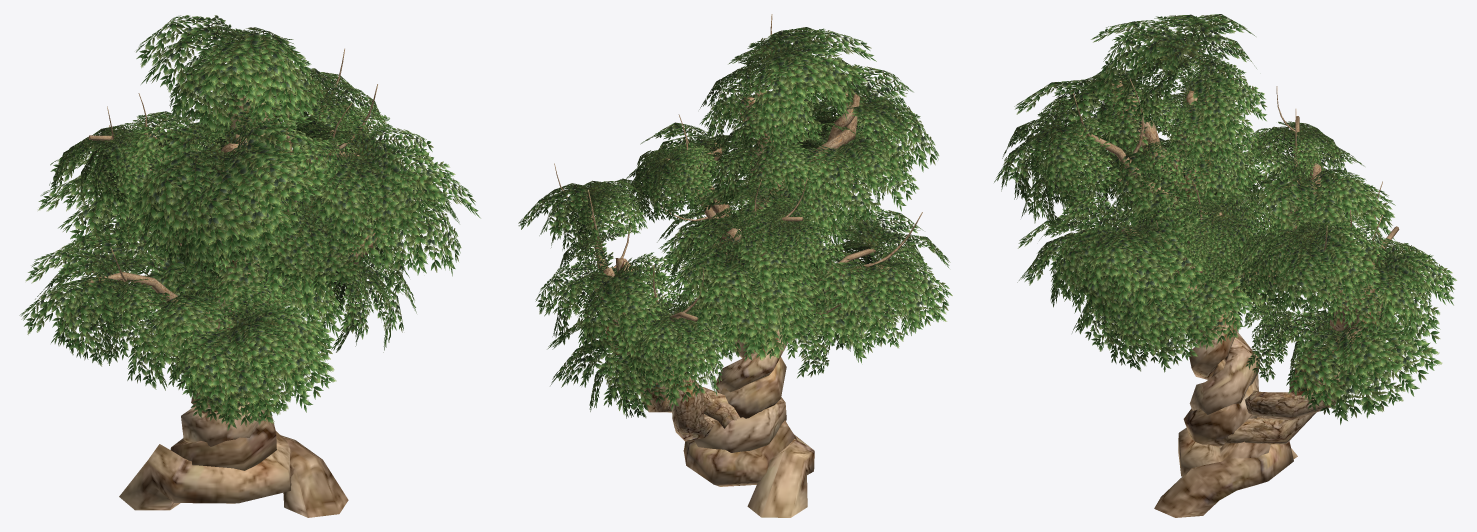
The model's file is Tree.obj.
3 views of the same model, side by side, from view 1: azimuth 30°, elevation 25°; view 2: azimuth 150°, elevation 25°; view 3: azimuth 270°, elevation 25° (orthographic). The views are drawn at different scales.
Parts seen in each view (by area): view 1: 3, 2, 4, 1; view 2: 2, 4, 3, 1; view 3: 2, 4, 3, 1.
Boxes of the visible parts, bbox=[...] form: 3: bbox=[49, 101, 480, 425]; 2: bbox=[50, 15, 398, 430]; 4: bbox=[19, 68, 416, 366]; 1: bbox=[87, 48, 385, 517]; 2: bbox=[535, 27, 899, 412]; 4: bbox=[518, 112, 952, 418]; 3: bbox=[599, 43, 950, 386]; 1: bbox=[554, 14, 922, 517]; 2: bbox=[1021, 14, 1456, 372]; 4: bbox=[1079, 100, 1442, 424]; 3: bbox=[994, 57, 1442, 323]; 1: bbox=[1060, 76, 1399, 517].
Bounding box in the file's own units: 52.98 × 59.02 × 57.65.
